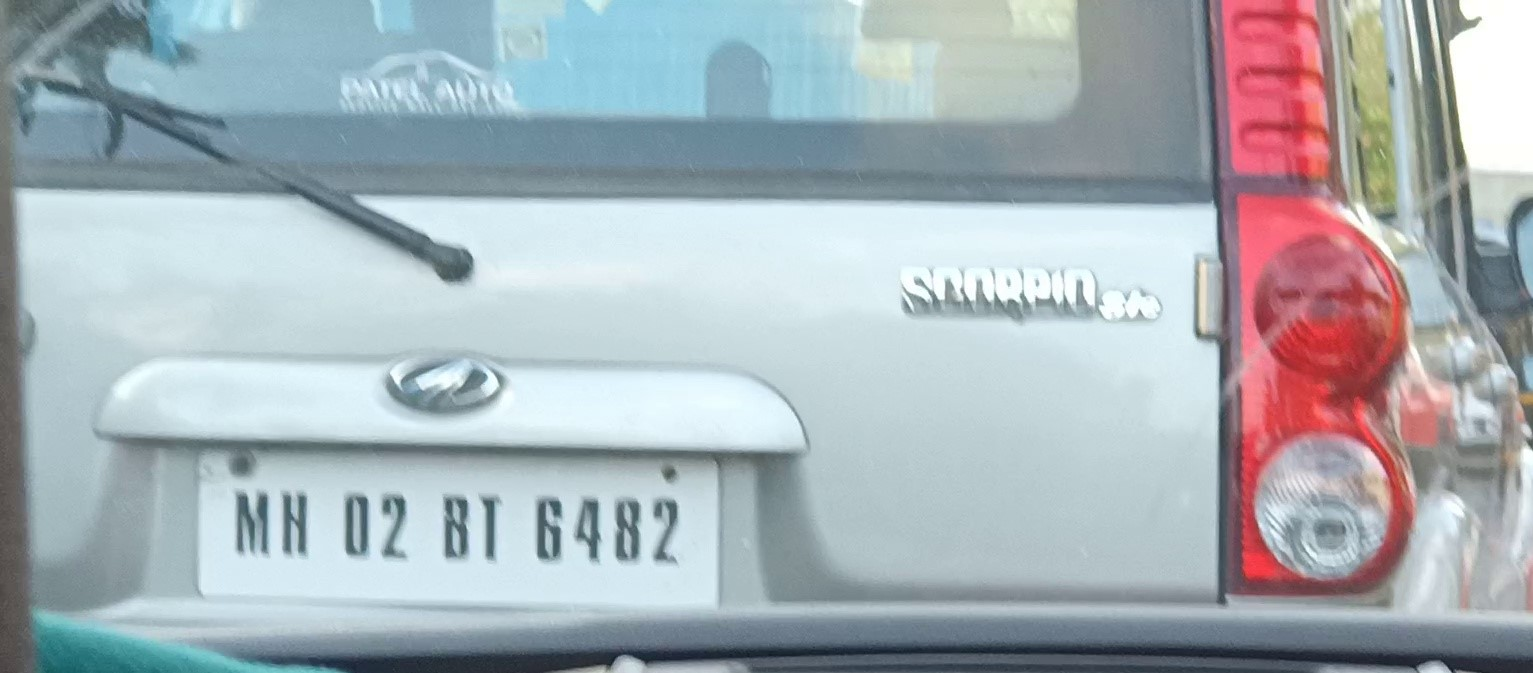MH02BT6482: (192, 447, 719, 616)
